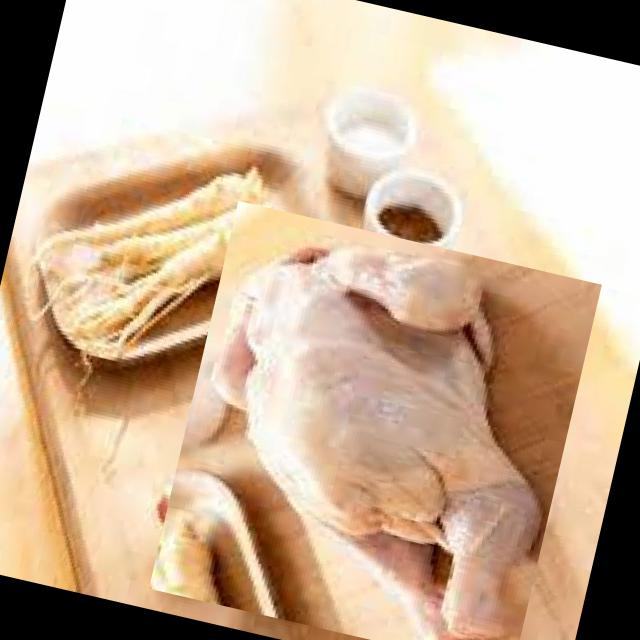chicken: (143, 205, 606, 640)
